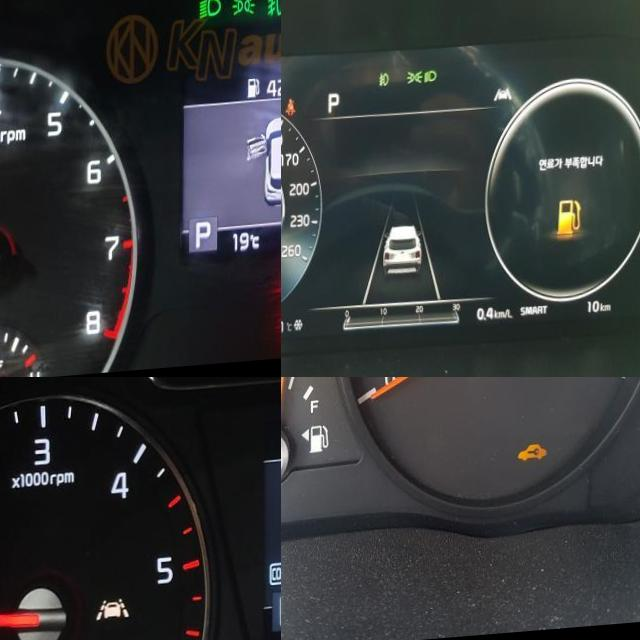FrontFogLight: (266, 0, 281, 22), (378, 76, 389, 93)
LaneCenteringOff: (95, 599, 128, 621)
Low beam: (198, 0, 221, 22), (423, 75, 436, 90)
Low fuel level: (557, 207, 582, 244)
SideLamp: (231, 0, 254, 21), (405, 75, 422, 90)
